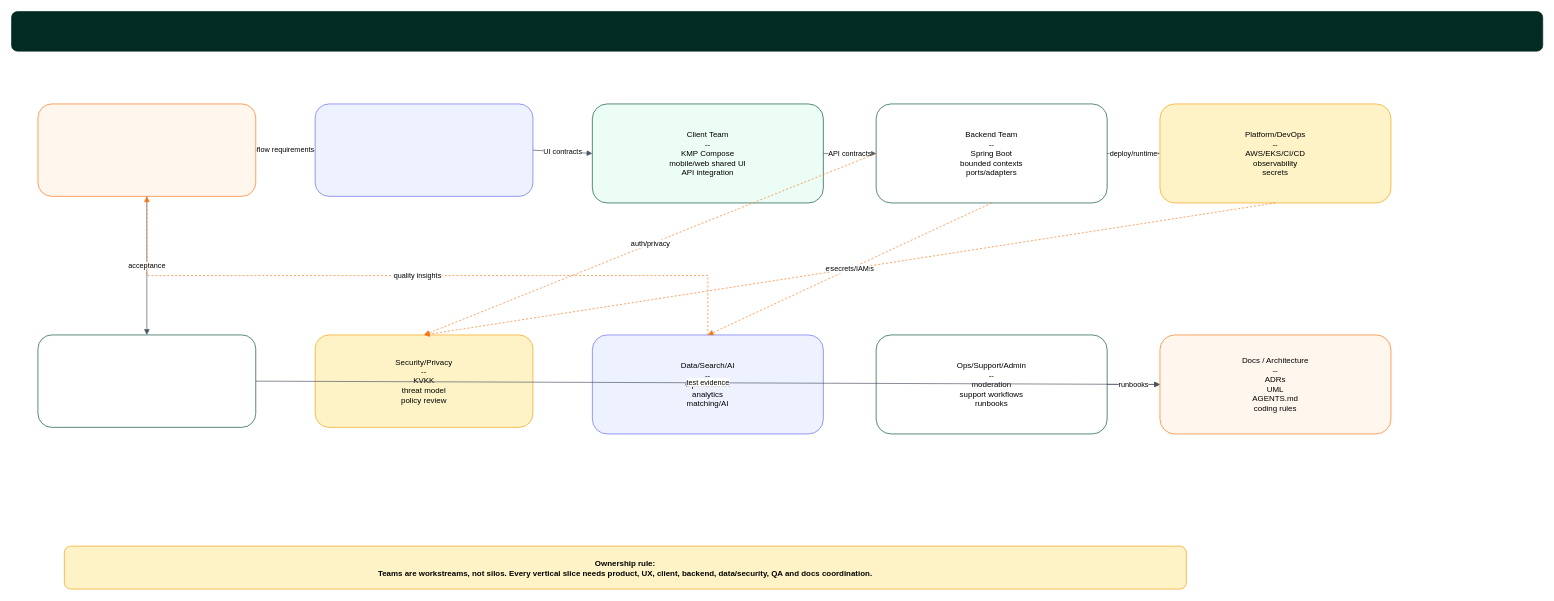
The diagram is 1554 pixels wide and 601 high, and some of its shapes have lost their labels. Each missing label, with the centre of its shape:
Design / UX -- KMP screens design system flows/prototypes: the point at 423,149
Product / Domain -- use cases acceptance roadmap priority: the point at 146,149
QA / Test -- manual QA automated tests release gates: the point at 146,380
Viaverse Team Ownership / Workstream Boundaries — Component Diagram: the point at 777,31
